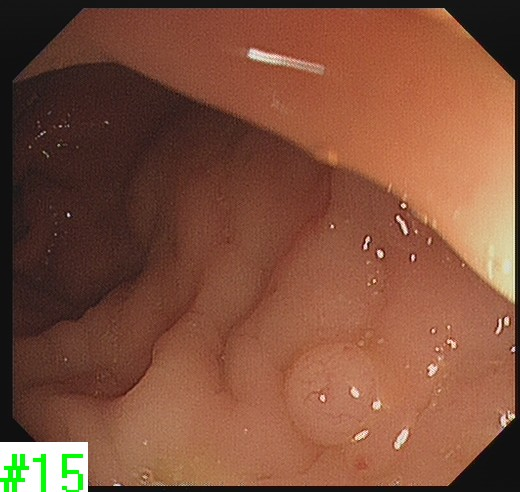adenoma: (282, 339, 382, 448)
